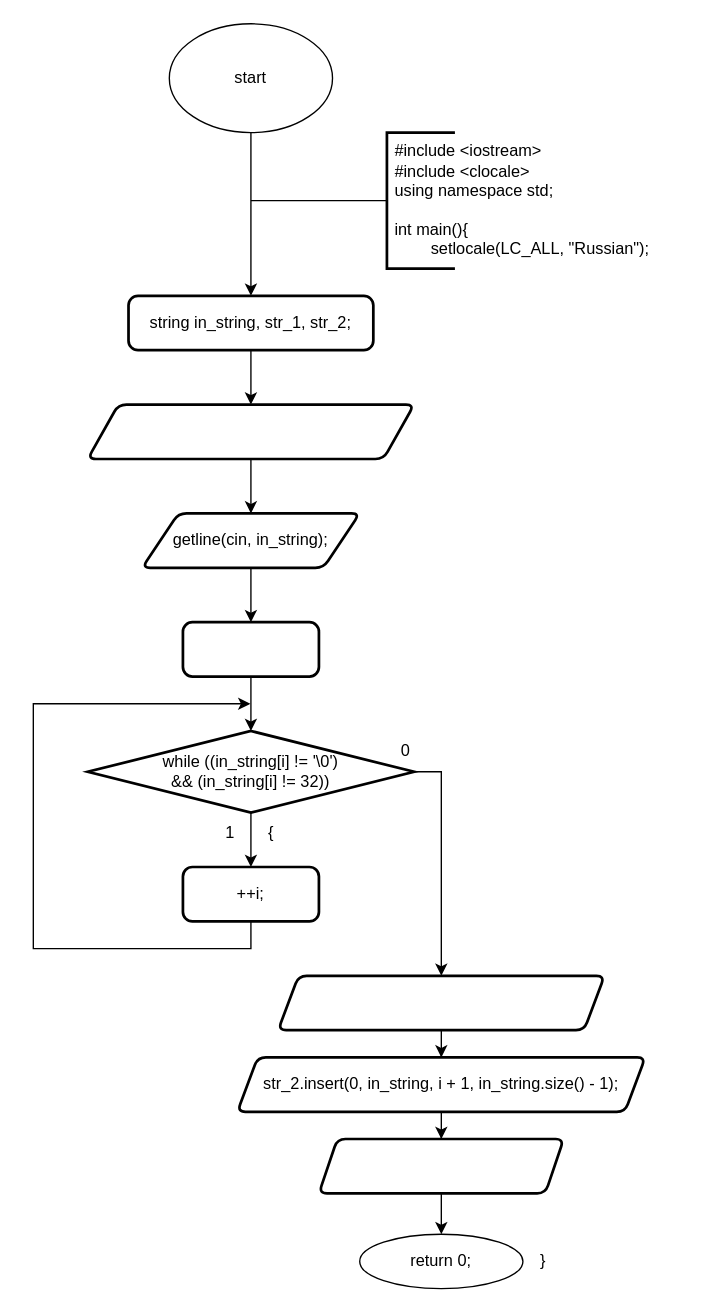
Some shapes in this 710 by 1312 pixel diagram are drawn without their labels. Each missing label, with the centre of its shape:
cout << "Введите два слова, разделенных пробелом:" << endl;: [250,431]
find_overlaps(str_1, str_2);: [440,1165]
int i = 0;: [250,648]
str_1.insert(0, in_string, 0, i);: [440,1002]
